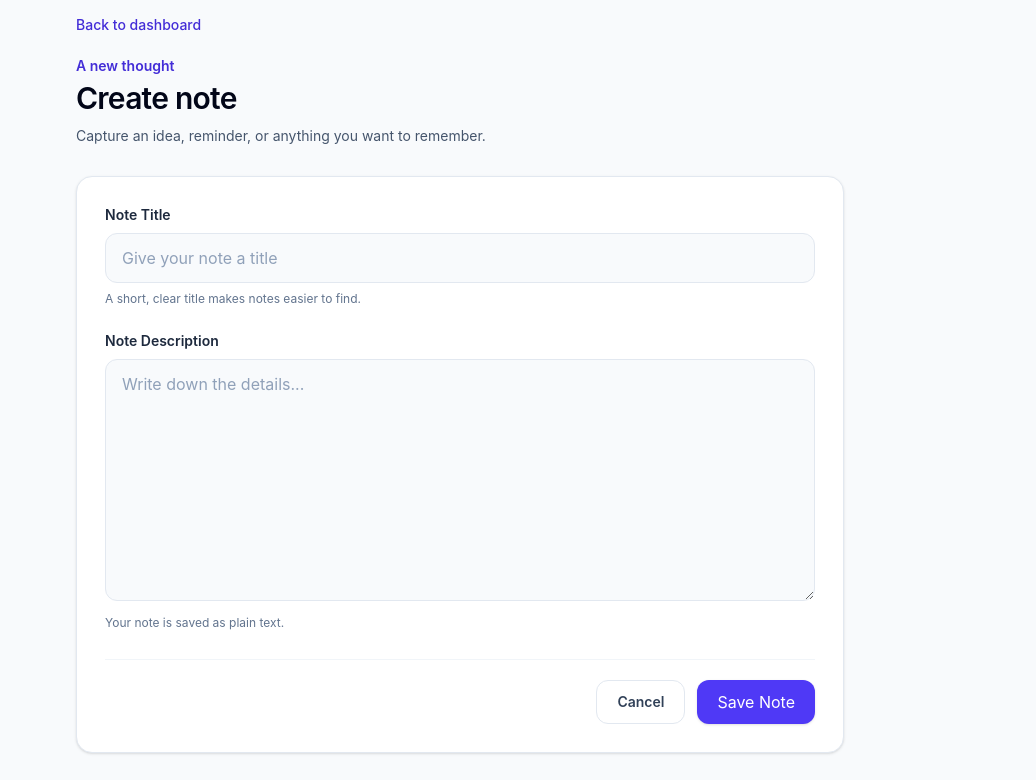
note routes › creates notes through Supabase with the signed-in owner
Step 1. Type "  New title  " into the field labelled "Note Title" → (460, 258), box [105,233,815,283]
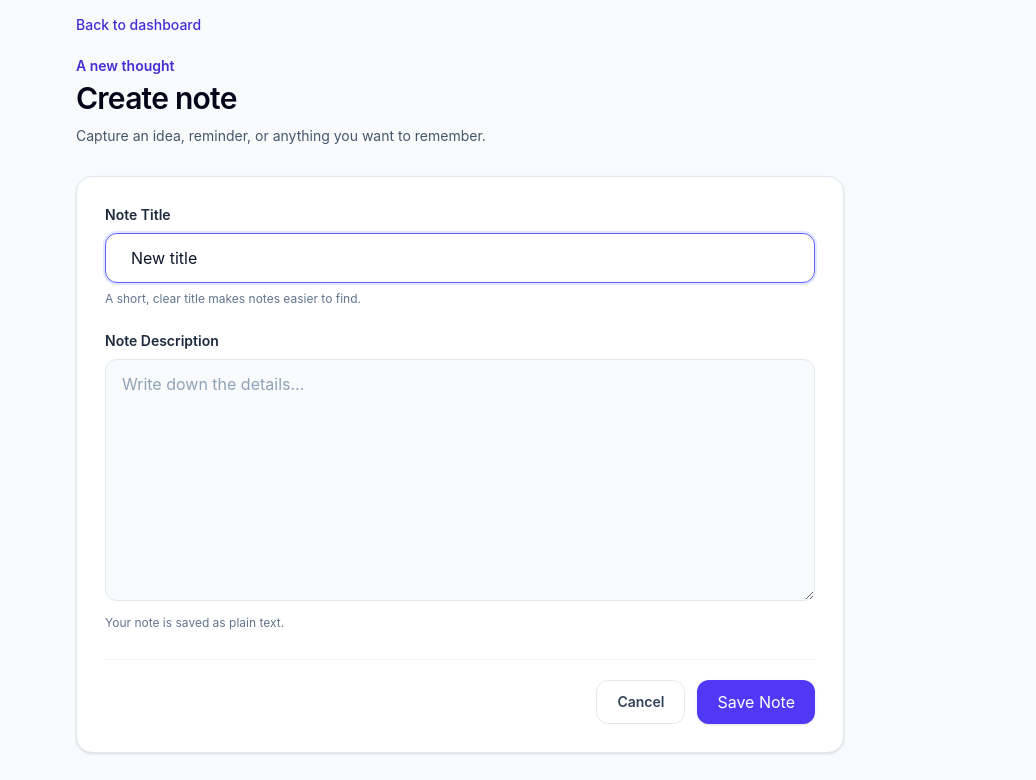
Step 2. Type "  New details  " into the text box labelled "Note Description" → (460, 480), box [105,359,815,601]
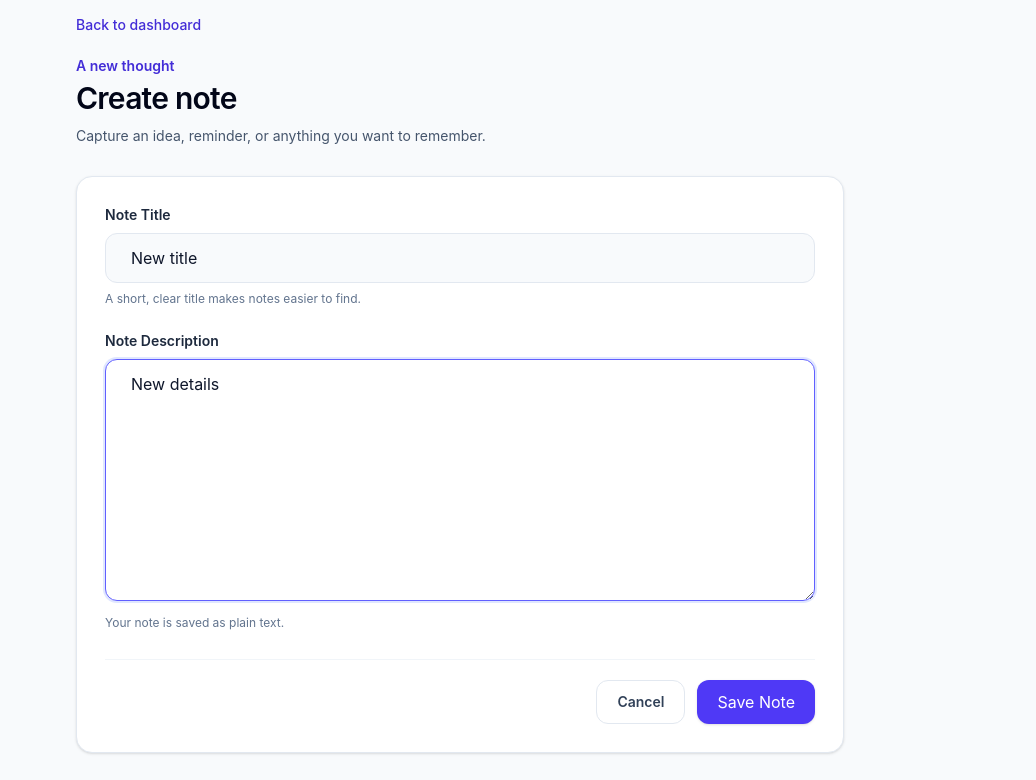
Step 3. Click the button "Save Note" → (756, 702), box [697,680,815,724]
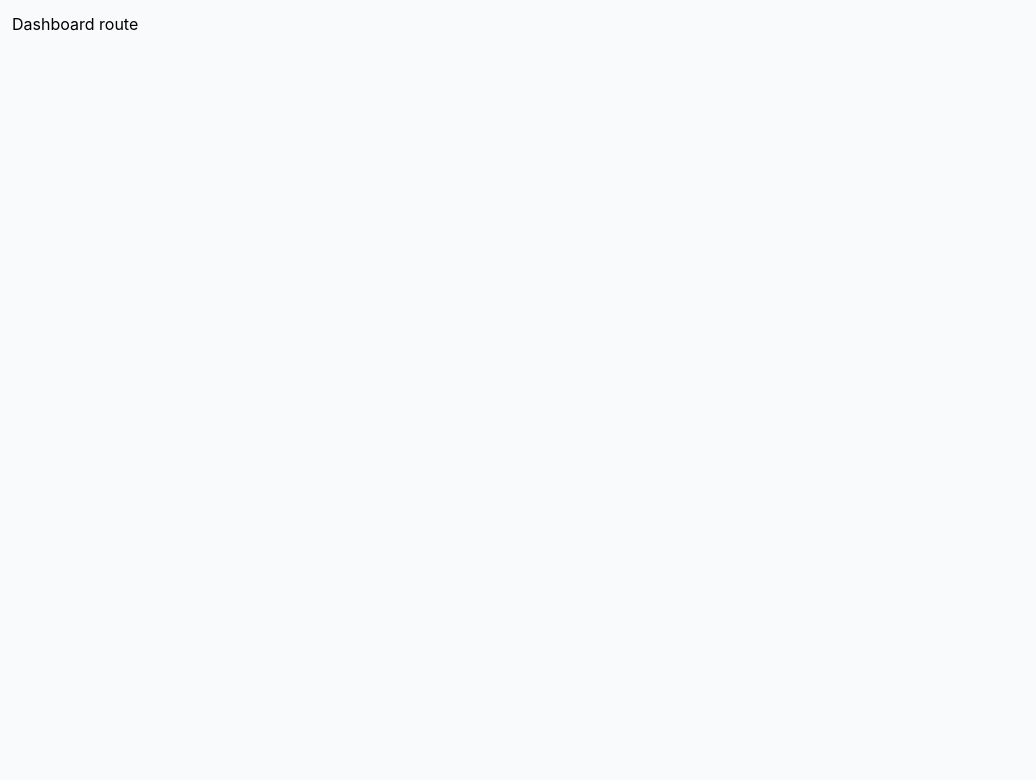
Result: the text "Dashboard route" is shown at [12,14,138,34]
